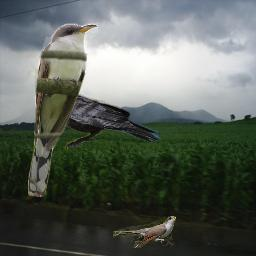Crow: (39, 88, 160, 150)
Cuckoo: (28, 23, 98, 197), (113, 216, 176, 248)
